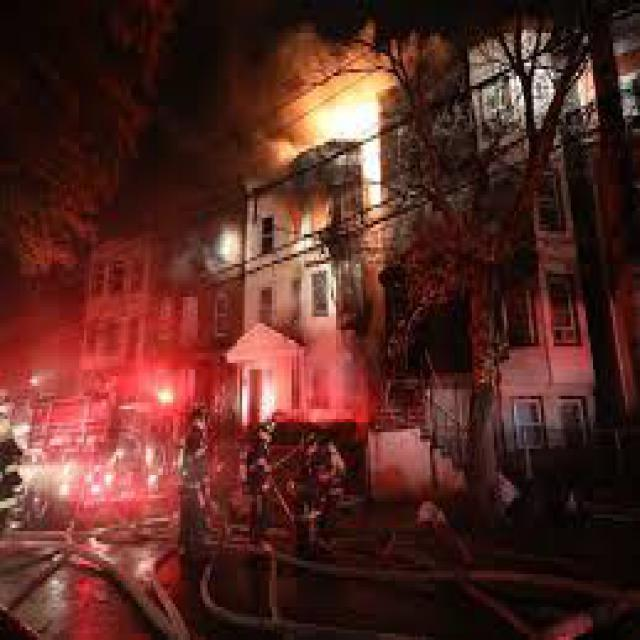Fire: (274, 70, 402, 171)
